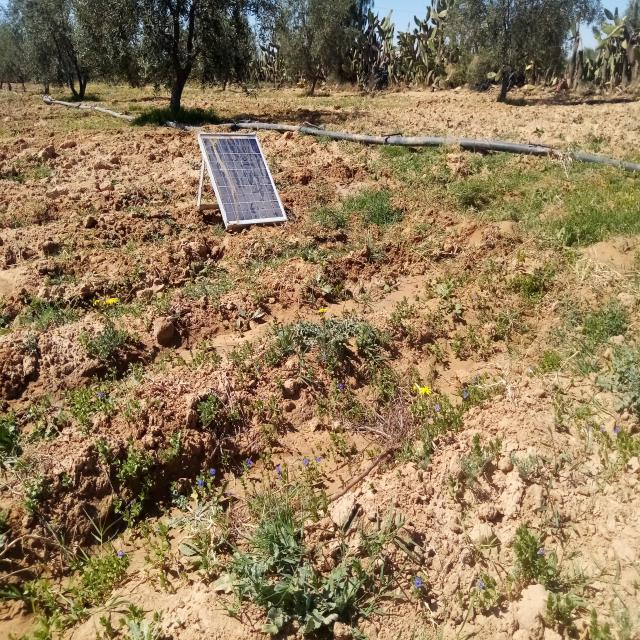faulty: (199, 134, 287, 226)
